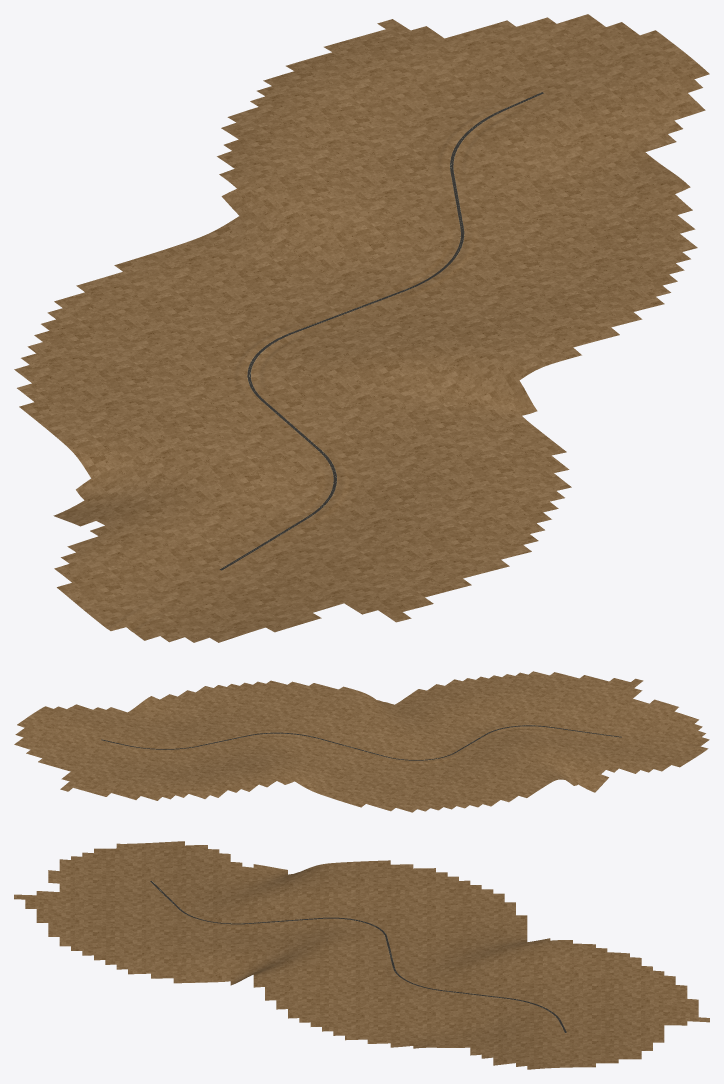
The picture shows the model from 3 angles, top to bottom: view 1: azimuth 30°, elevation 25°; view 2: azimuth 150°, elevation 25°; view 3: azimuth 270°, elevation 25°; orthographic projection. The views are drawn at different scales.
Visible parts, largest first — view 1: S07_TERRAIN_LOD1_WEB_EXPORT, S07_ROAD_ASPHALT_LOD1_WEB_EXPORT; view 2: S07_TERRAIN_LOD1_WEB_EXPORT, S07_ROAD_ASPHALT_LOD1_WEB_EXPORT; view 3: S07_TERRAIN_LOD1_WEB_EXPORT, S07_ROAD_ASPHALT_LOD1_WEB_EXPORT.
Part boxes in pixels (x1,y1,x2,y2): S07_TERRAIN_LOD1_WEB_EXPORT: [14, 14, 709, 642]; S07_ROAD_ASPHALT_LOD1_WEB_EXPORT: [219, 92, 543, 570]; S07_TERRAIN_LOD1_WEB_EXPORT: [14, 671, 709, 812]; S07_ROAD_ASPHALT_LOD1_WEB_EXPORT: [101, 725, 621, 760]; S07_TERRAIN_LOD1_WEB_EXPORT: [14, 841, 709, 1069]; S07_ROAD_ASPHALT_LOD1_WEB_EXPORT: [150, 881, 566, 1032].
Size of the model in its own units: 2360 by 244 by 2440.
6 materials, 6 textured.
